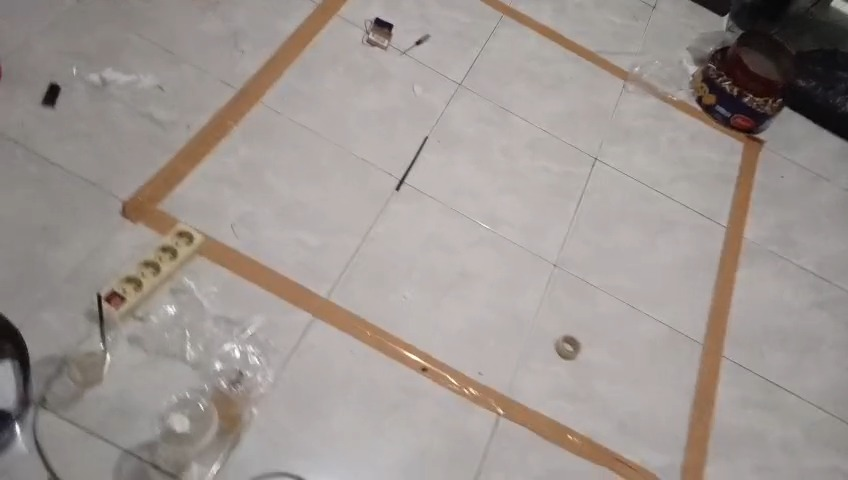floor marking: (202, 239, 657, 478), (123, 0, 345, 232), (639, 82, 763, 479), (481, 0, 627, 79)
